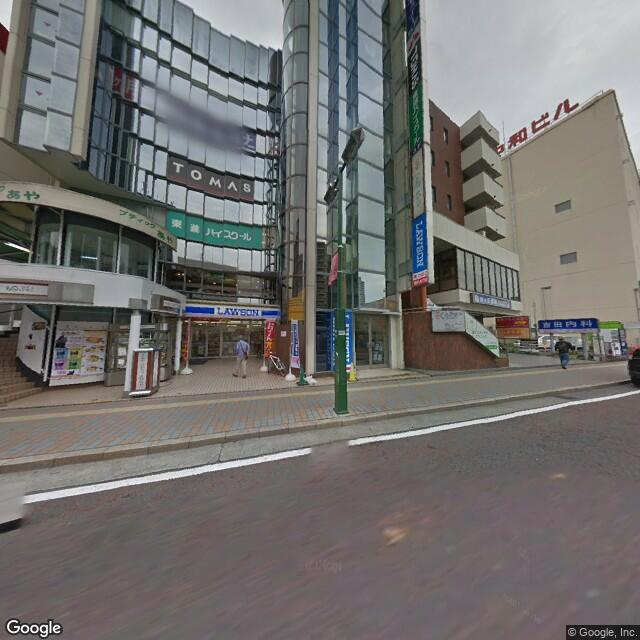lawson: (180, 298, 279, 323), (411, 215, 432, 275)
